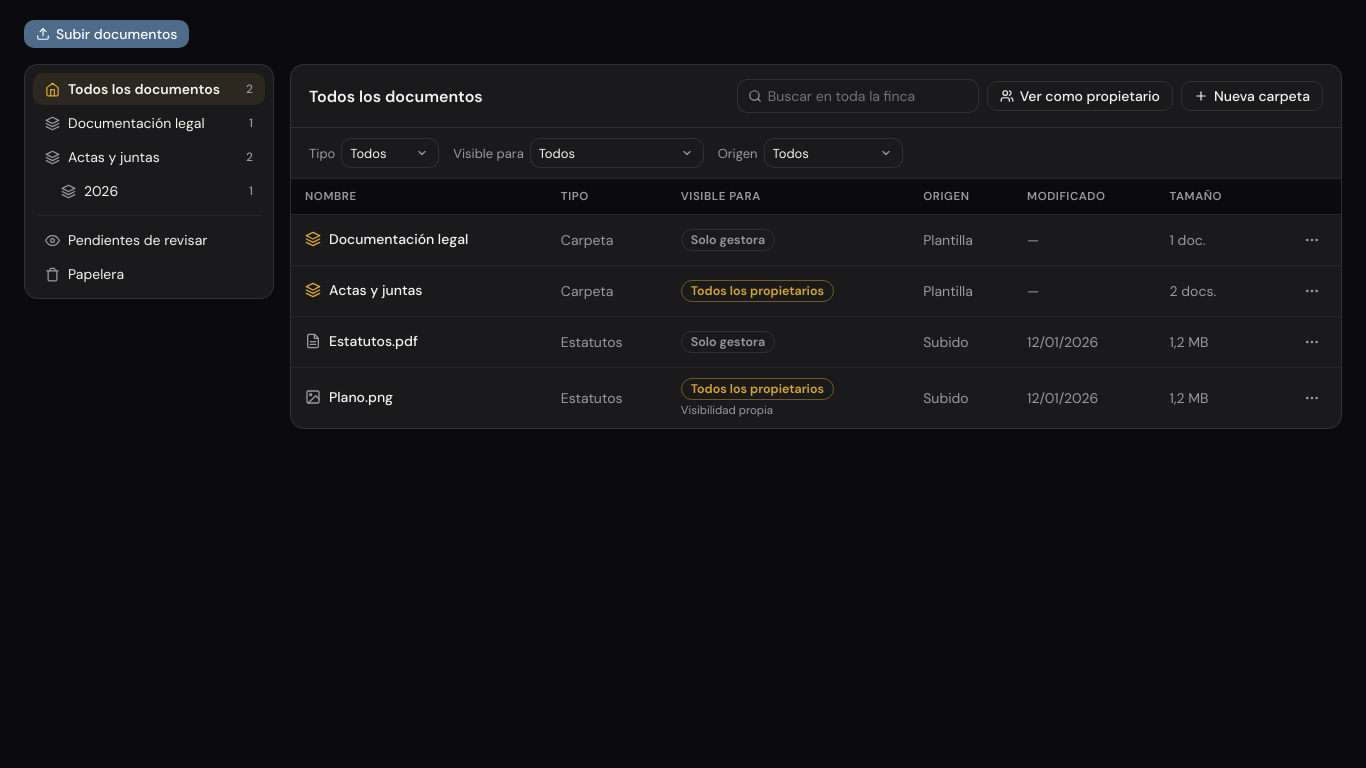
Test case: LibraryTabComponent › shows a duplicate-name error inside the folder dialog
Click the button "Nueva carpeta".
click(1252, 96)  # box [1181,81,1323,111]
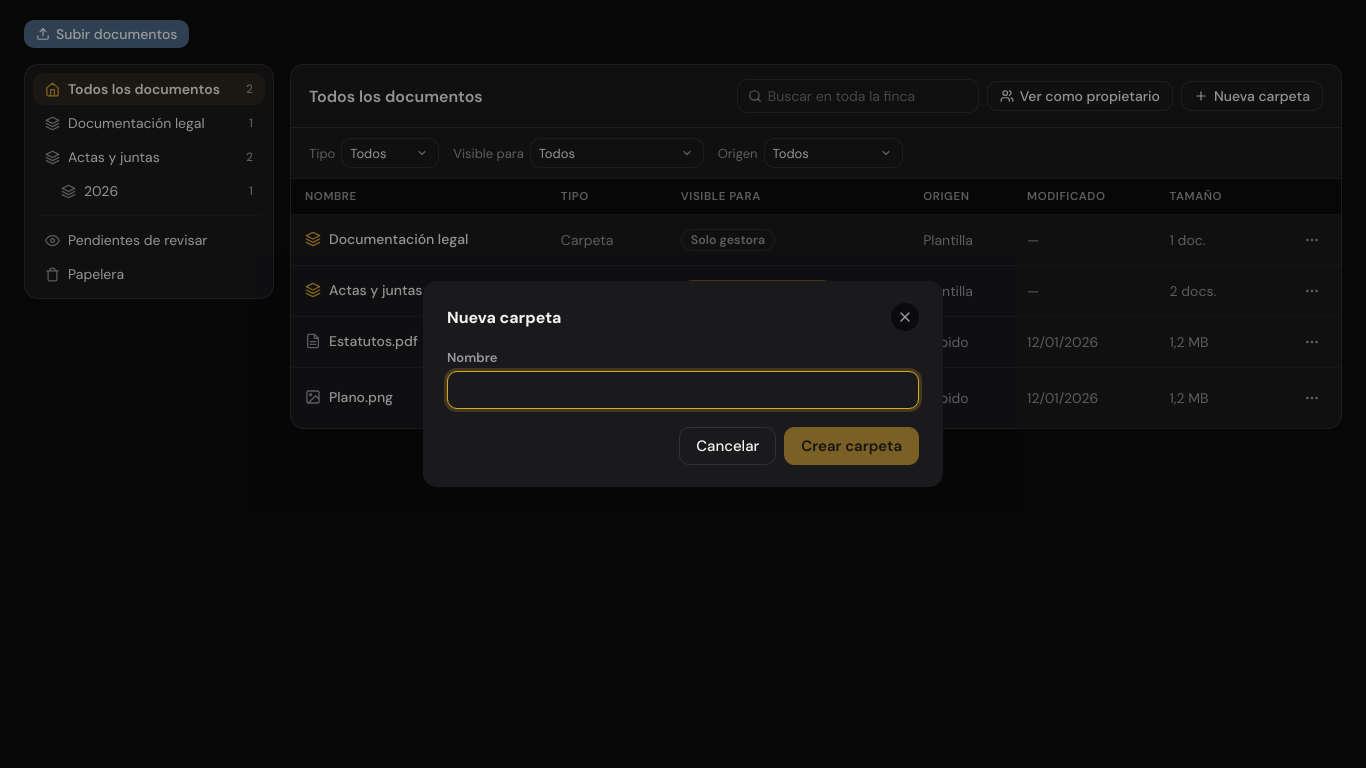
Type "Seguros" into the field with id "ln-name".
click(683, 390); type("Seguros")  # box [447,371,919,409]
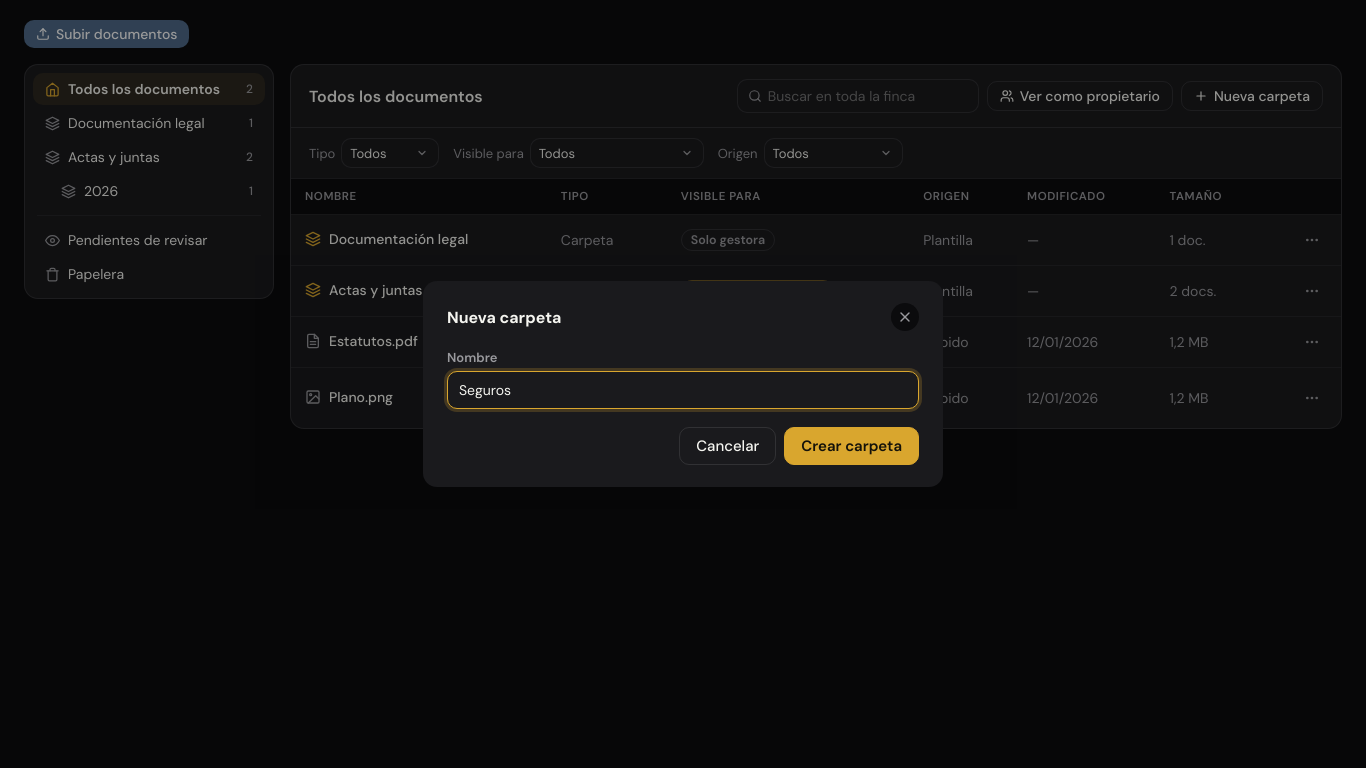
Click the button "Crear carpeta".
click(852, 446)  # box [784,427,919,465]
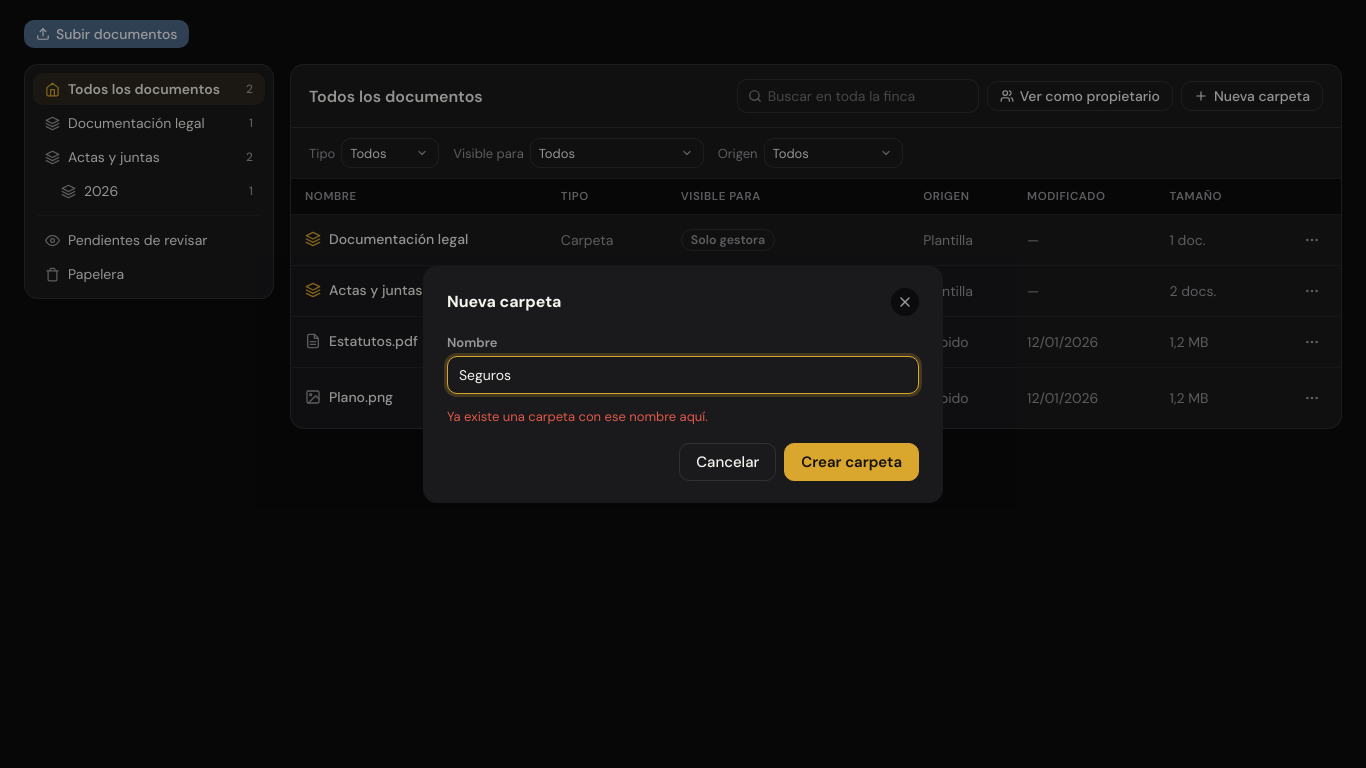
Expected: the message "Ya existe una carpeta con ese nombre aquí." is shown, [447,408,708,424]
